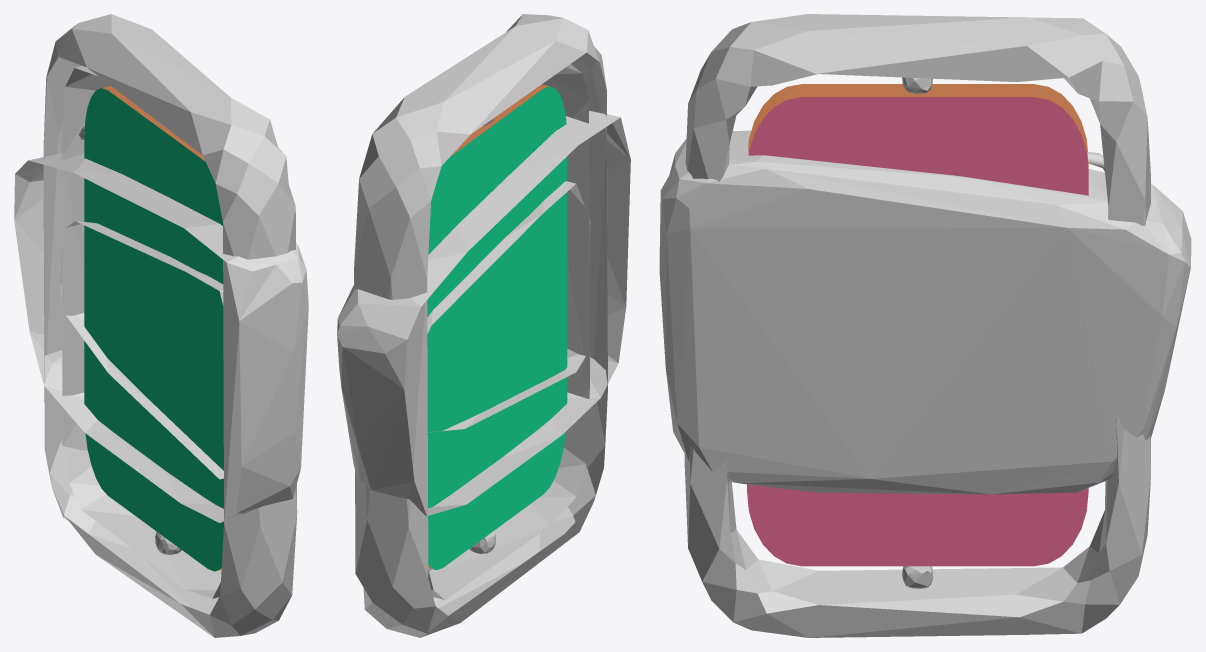
File: TitleScreenElements.fbx
3 views of the same model, side by side, from view 1: azimuth 30°, elevation 25°; view 2: azimuth 150°, elevation 25°; view 3: azimuth 270°, elevation 25° (orthographic). The views are drawn at different scales.
Visible parts, largest first — view 1: Frame, ScreenshotBoard, TitleBoard, PlayButton; view 2: Frame, ScreenshotBoard, TitleBoard, PlayButton; view 3: TitleBoard, Frame, ScreenshotBoard.
Part boxes in pixels (bbox=[...]): Frame: bbox=[43, 14, 297, 637]; ScreenshotBoard: bbox=[84, 86, 223, 571]; TitleBoard: bbox=[14, 125, 308, 522]; PlayButton: bbox=[60, 221, 223, 479]; Frame: bbox=[354, 14, 607, 637]; ScreenshotBoard: bbox=[427, 84, 567, 570]; TitleBoard: bbox=[337, 110, 630, 515]; PlayButton: bbox=[427, 181, 591, 432]; TitleBoard: bbox=[659, 130, 1191, 494]; Frame: bbox=[684, 14, 1150, 637]; ScreenshotBoard: bbox=[747, 84, 1088, 566].
Size of the model in its own units: 16.17 by 99.72 by 79.61.
